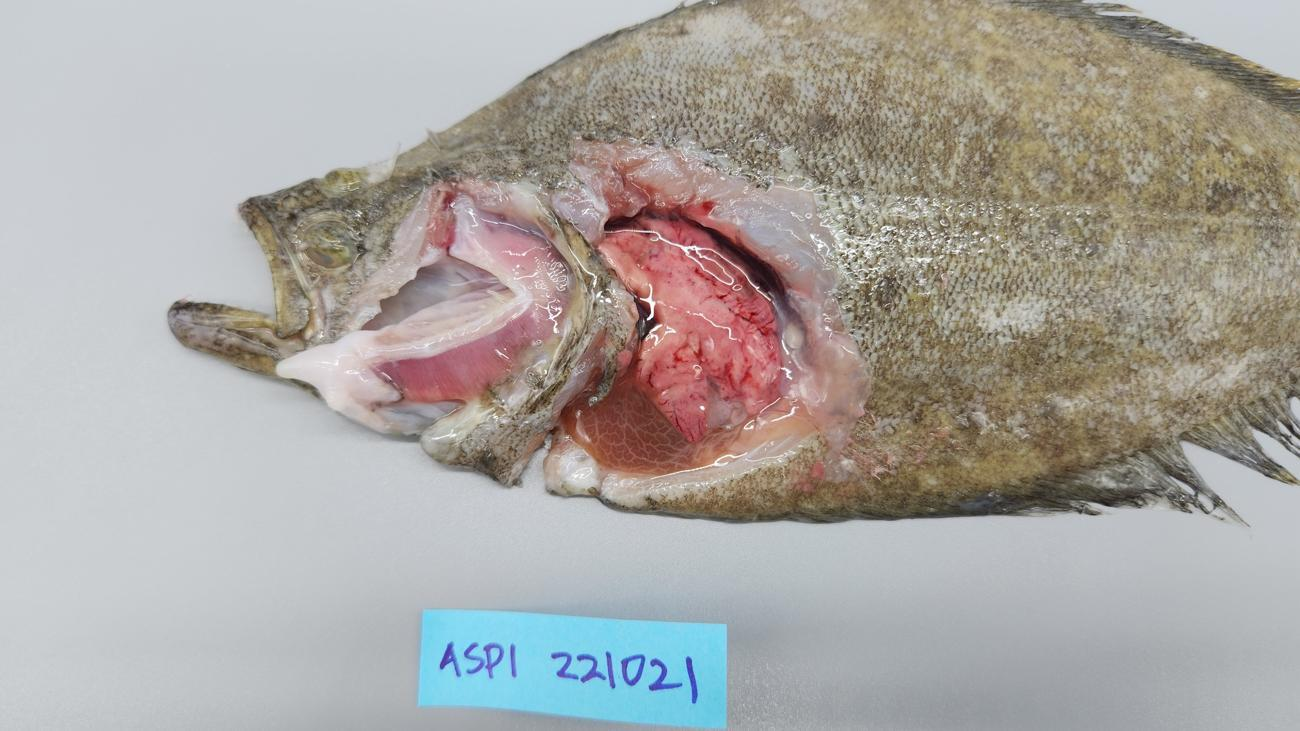SPGIP: (376, 232, 568, 404)
SPLIC: (601, 218, 782, 443)
